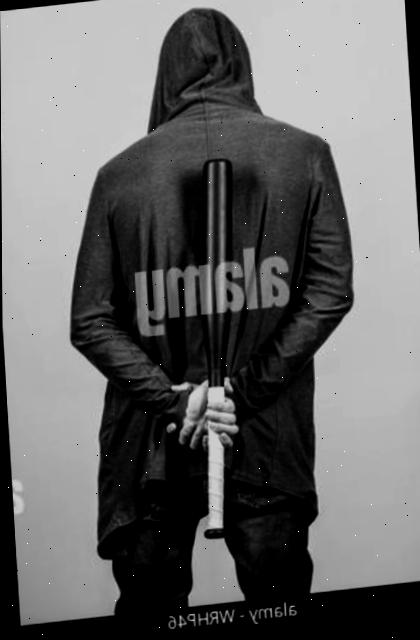baseball bat: (175, 153, 251, 545)
